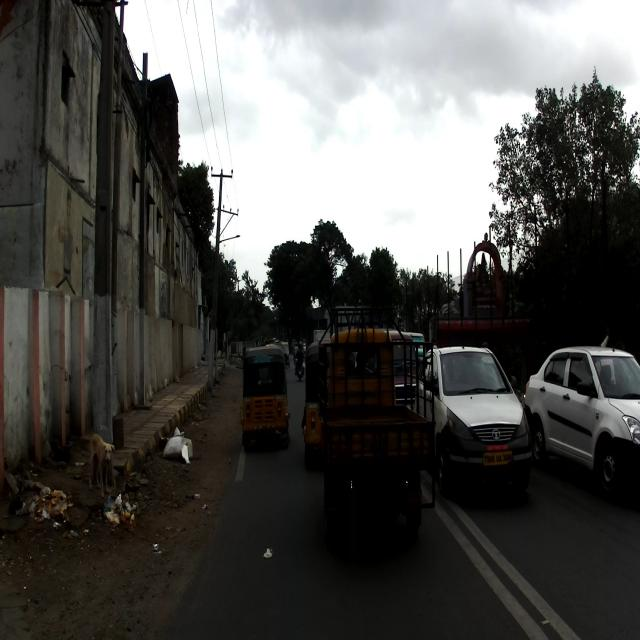Car_Maruti-Suzuki: (522, 333, 640, 502)
Car_TATA: (433, 341, 532, 493)
autorickshaw: (316, 302, 436, 551), (239, 345, 290, 451)
